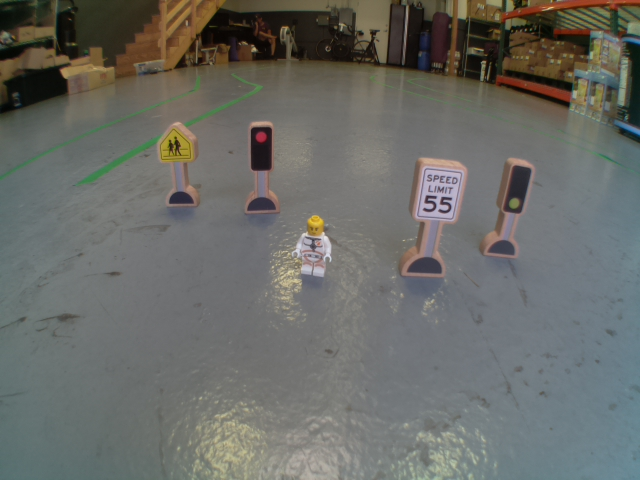Green Traffic Light: (501, 155, 530, 217)
Red Traffic Light: (244, 121, 278, 178)
Speed Limit 55: (407, 154, 463, 225)
YIELD: (151, 119, 201, 168)
person: (290, 211, 337, 282)
